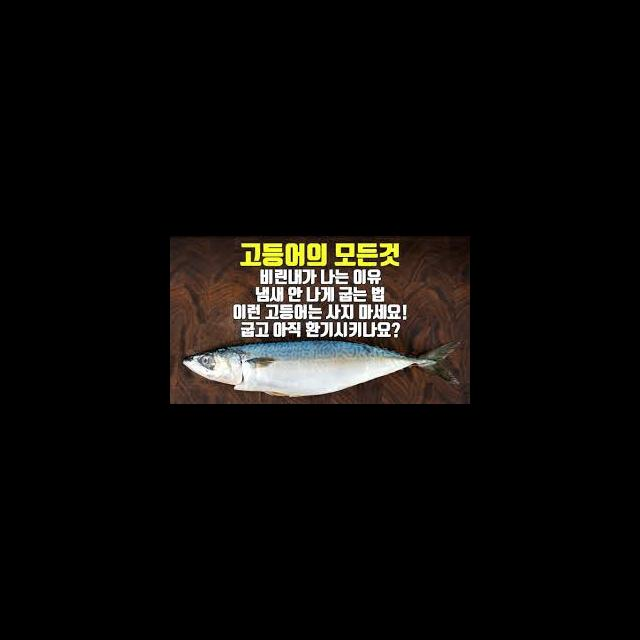fish: (179, 338, 469, 399)
